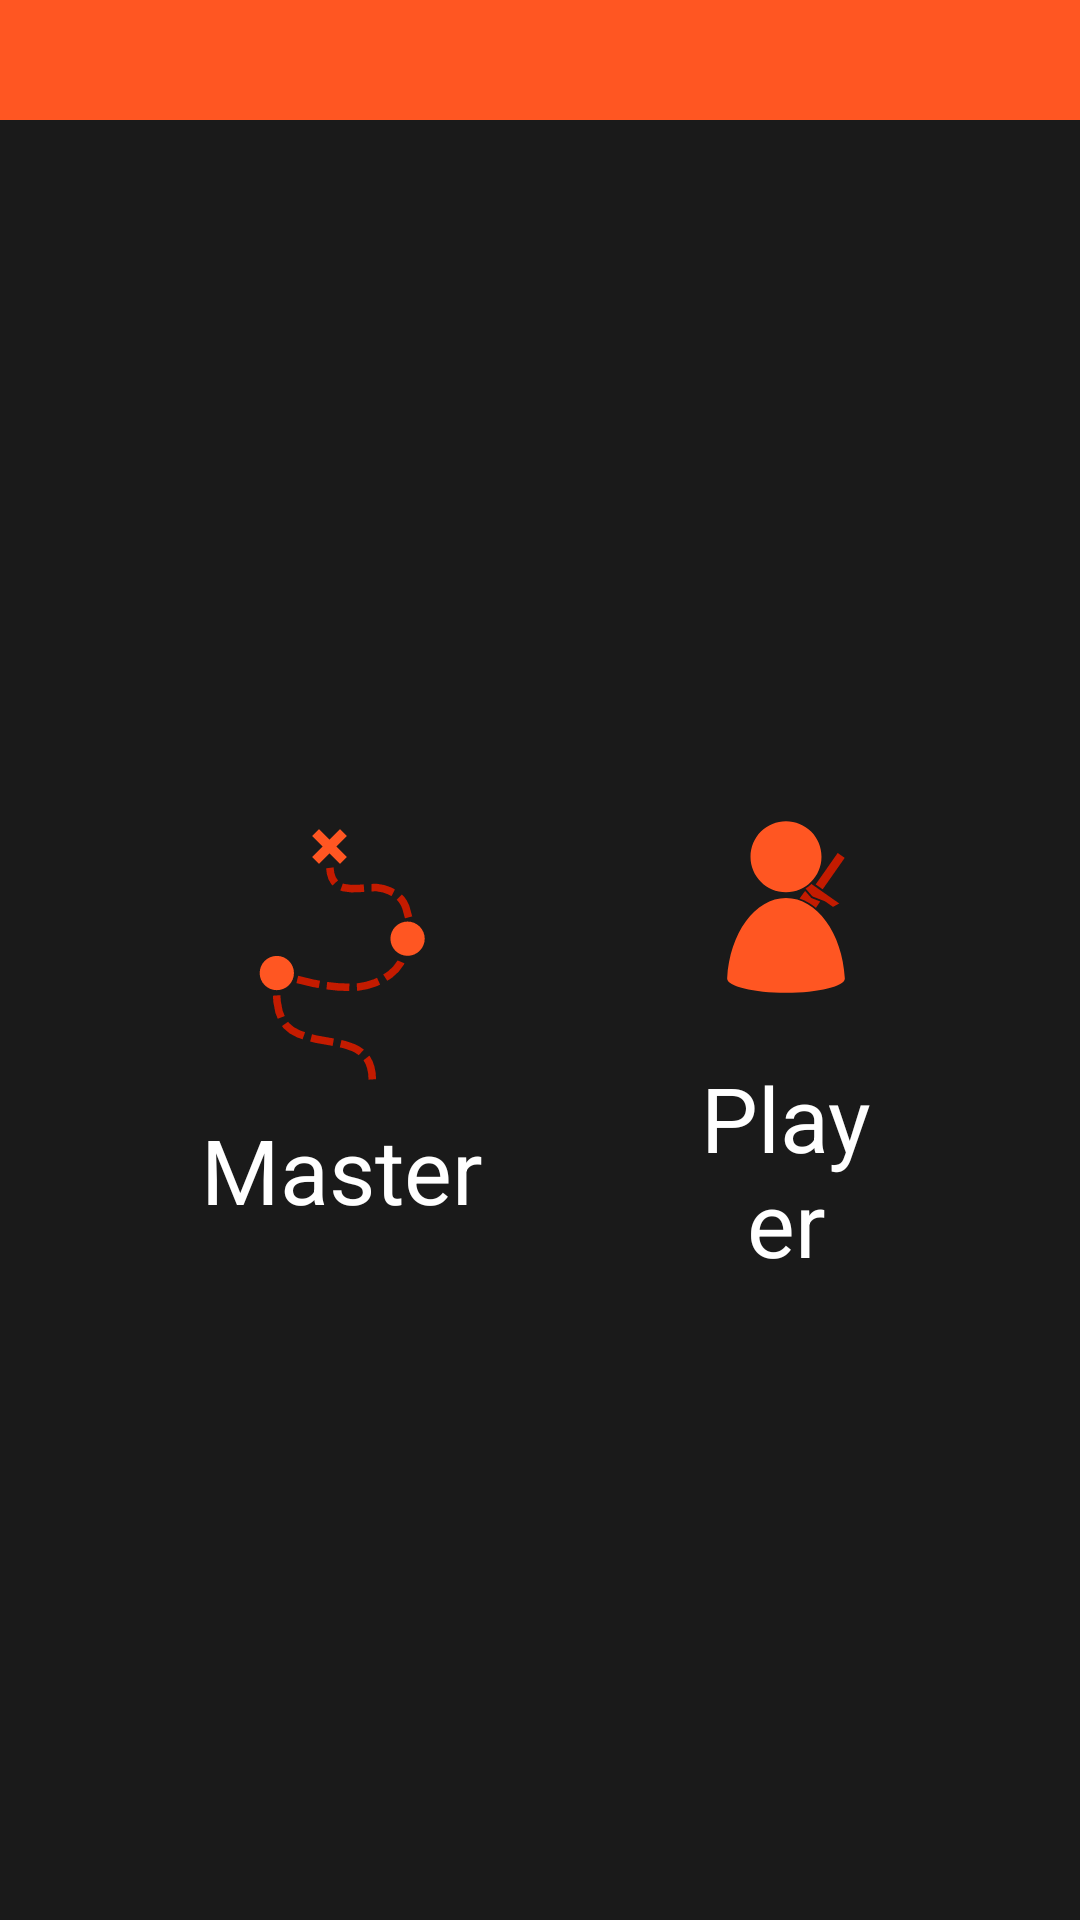

Where icons sit on this 1080x1920 app screen, as Rect(x1, y1, x2, y2):
campaign: Rect(259, 829, 425, 1080)
character: Rect(727, 821, 845, 993)
